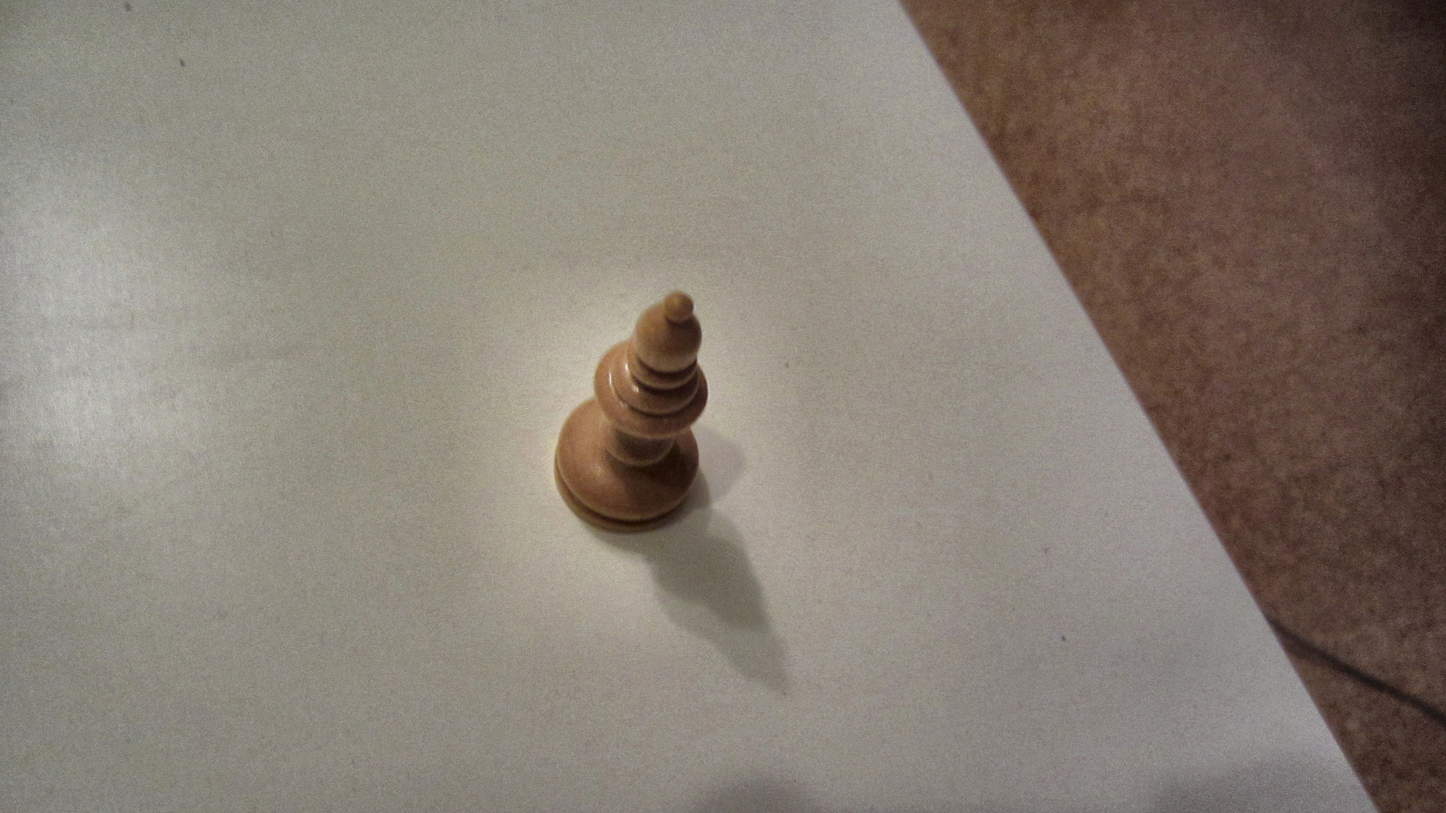white-bishop: (548, 286, 711, 533)
